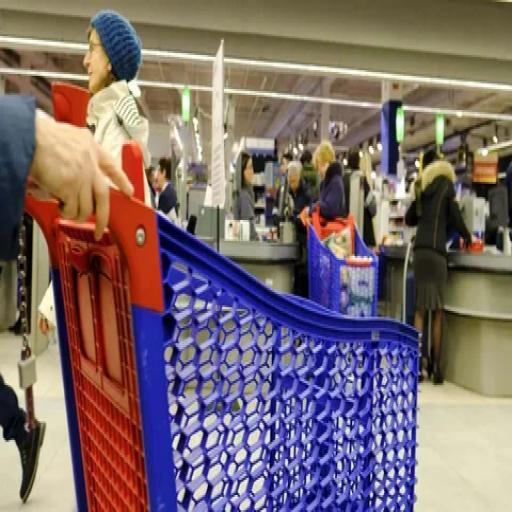shopping_cart: (21, 175, 421, 512), (306, 215, 379, 318)
